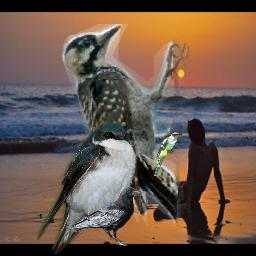Crow: (67, 186, 143, 246)
Cuckoo: (154, 132, 183, 176)
Swallow: (37, 118, 140, 254)
Woodpecker: (61, 24, 190, 227)
